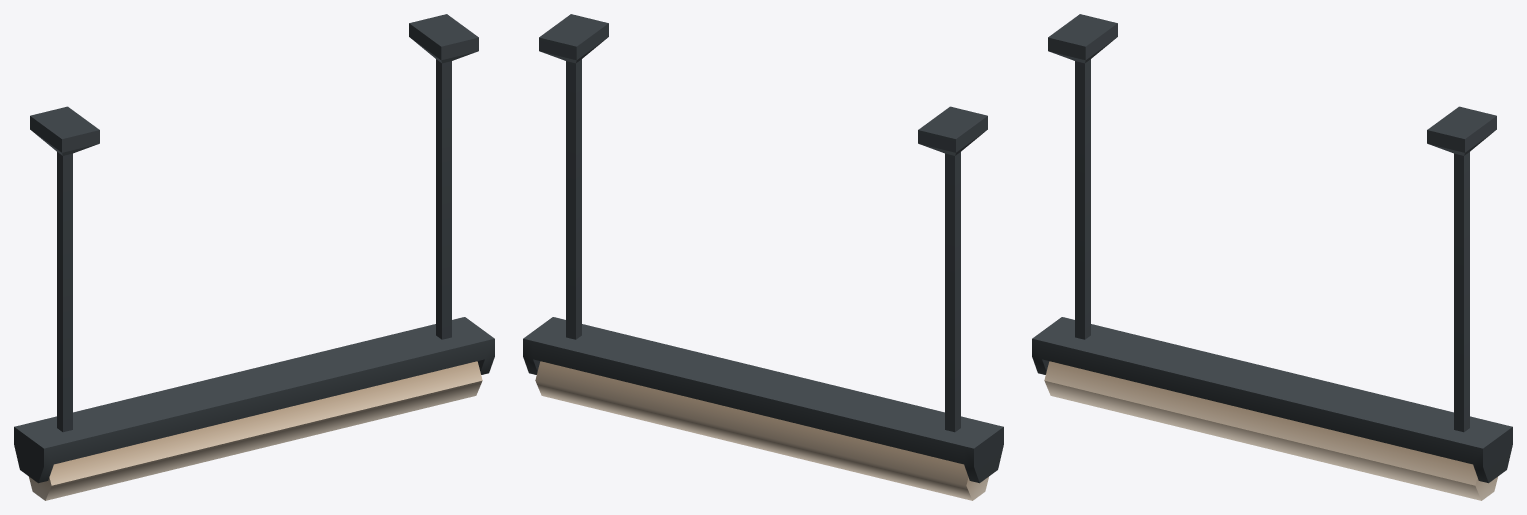
The model's file is squidgame_light_light1.fbx.
3 renders of one model, left to right at view 1: azimuth 30°, elevation 25°; view 2: azimuth 150°, elevation 25°; view 3: azimuth 330°, elevation 25°, orthographic.
Visible parts, largest first — view 1: squidgame_light_light1, squidgame_light_light1_light; view 2: squidgame_light_light1, squidgame_light_light1_light; view 3: squidgame_light_light1, squidgame_light_light1_light.
Part boxes in pixels (left/top/right/bottom): squidgame_light_light1: left=14, top=14, right=494, bottom=483; squidgame_light_light1_light: left=28, top=361, right=482, bottom=500; squidgame_light_light1: left=523, top=14, right=1003, bottom=483; squidgame_light_light1_light: left=535, top=361, right=989, bottom=500; squidgame_light_light1: left=1032, top=14, right=1512, bottom=483; squidgame_light_light1_light: left=1044, top=361, right=1498, bottom=500.
Size of the model in its own units: 1.15 by 0.8961 by 0.142.
